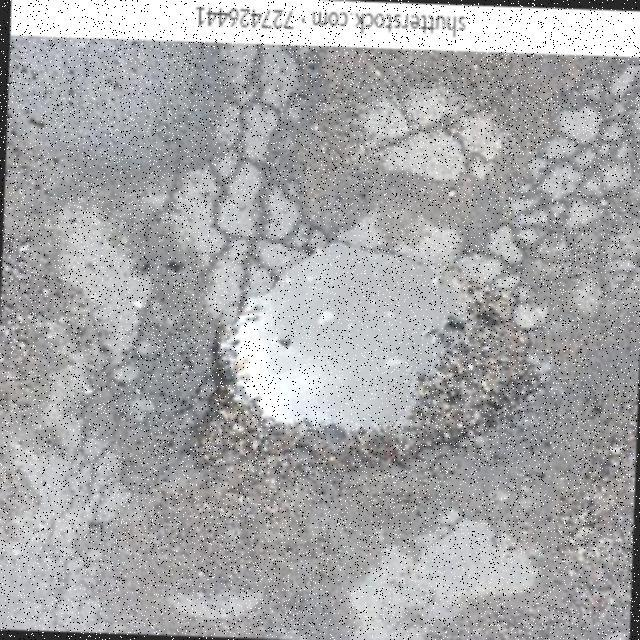Pothole: (217, 241, 539, 468)
